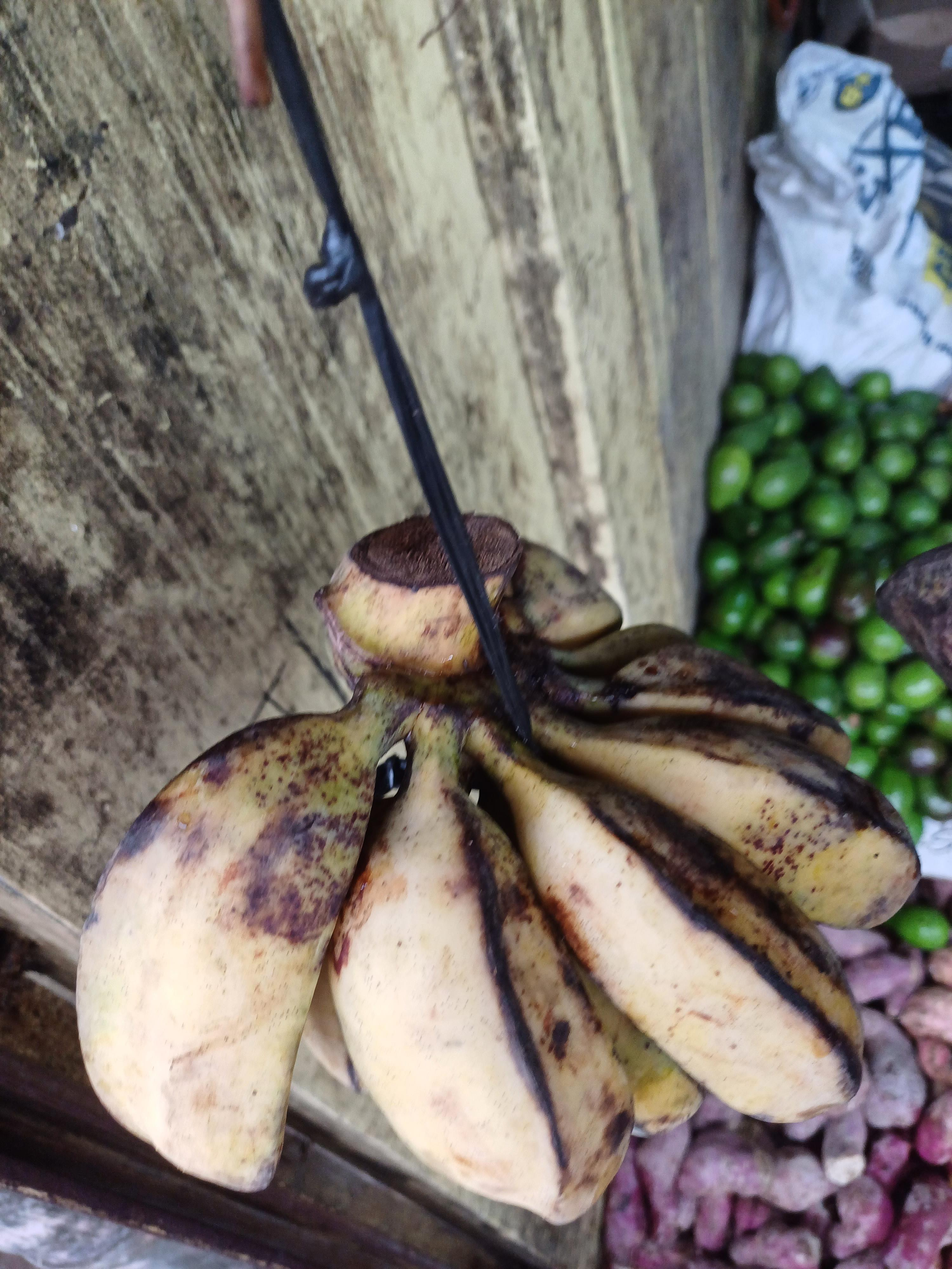ripe: (73, 536, 922, 1223)
